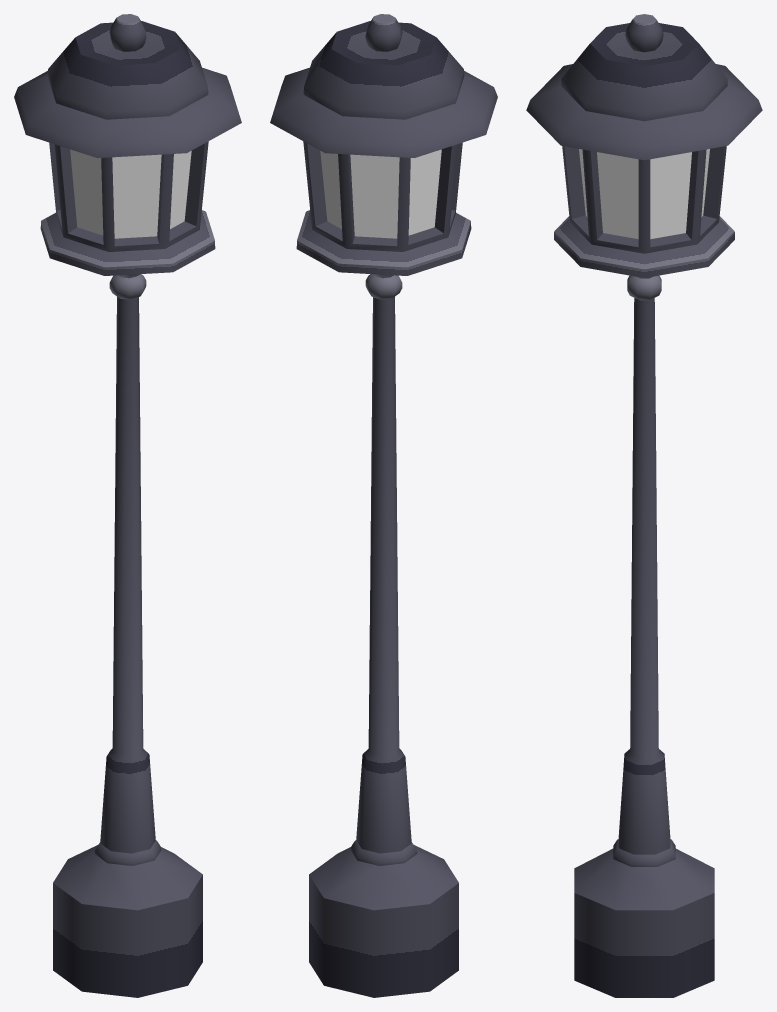
Rendered from farol_02.fbx.
The picture shows the model from 3 angles, left to right: view 1: azimuth 30°, elevation 25°; view 2: azimuth 150°, elevation 25°; view 3: azimuth 270°, elevation 25°; orthographic projection.
Parts seen in each view (by area): view 1: farol_02; view 2: farol_02; view 3: farol_02.
Part boxes in pixels (box(x1,y1,x2,y2)): farol_02: box(14, 14, 241, 997); farol_02: box(270, 14, 497, 997); farol_02: box(526, 14, 762, 997).
Bounding box in the file's own units: 206 × 912 × 206.
